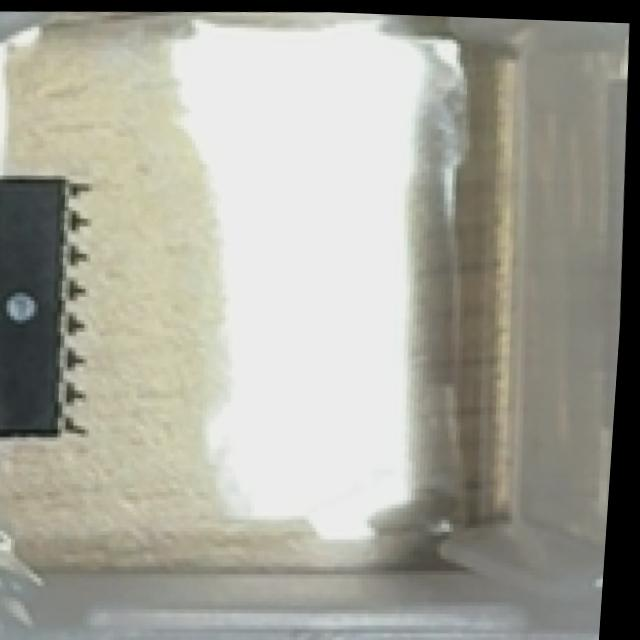IC: (0, 170, 109, 446)
